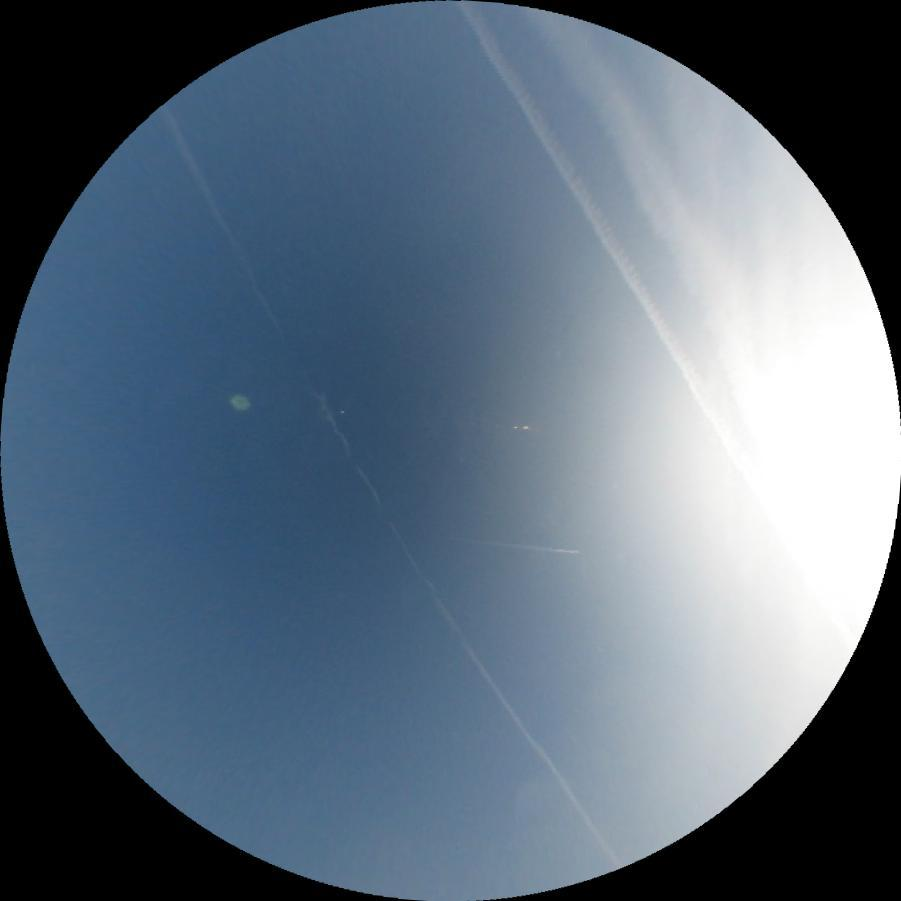contrail old: (143, 102, 623, 879)
contrail veryold: (453, 0, 861, 645)
contrail young: (455, 536, 578, 555)
